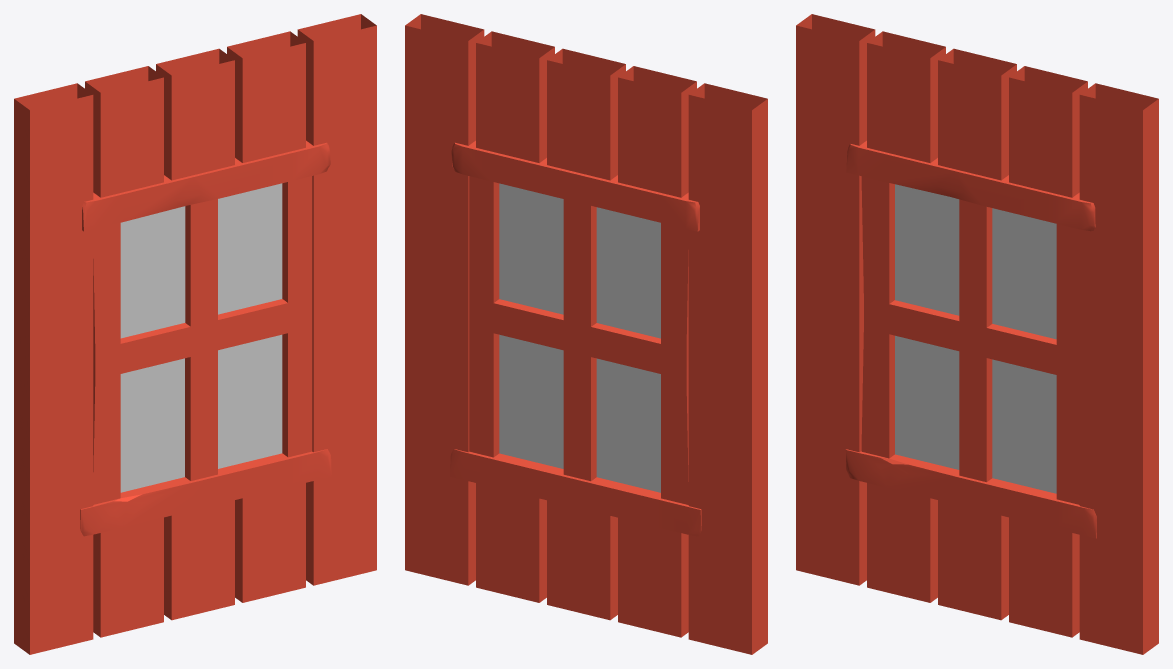
The model's file is barn_window_1.fbx.
3 renders of one model, left to right at view 1: azimuth 30°, elevation 25°; view 2: azimuth 150°, elevation 25°; view 3: azimuth 330°, elevation 25°, orthographic.
Visible parts, largest first — view 1: planks window.004; view 2: planks window.004; view 3: planks window.004.
Part boxes in pixels (box(x1,y1,x2,y2)): planks window.004: box(14, 14, 376, 654); planks window.004: box(405, 14, 767, 654); planks window.004: box(796, 14, 1158, 654).
Size of the model in its own units: 200 by 300 by 20.
